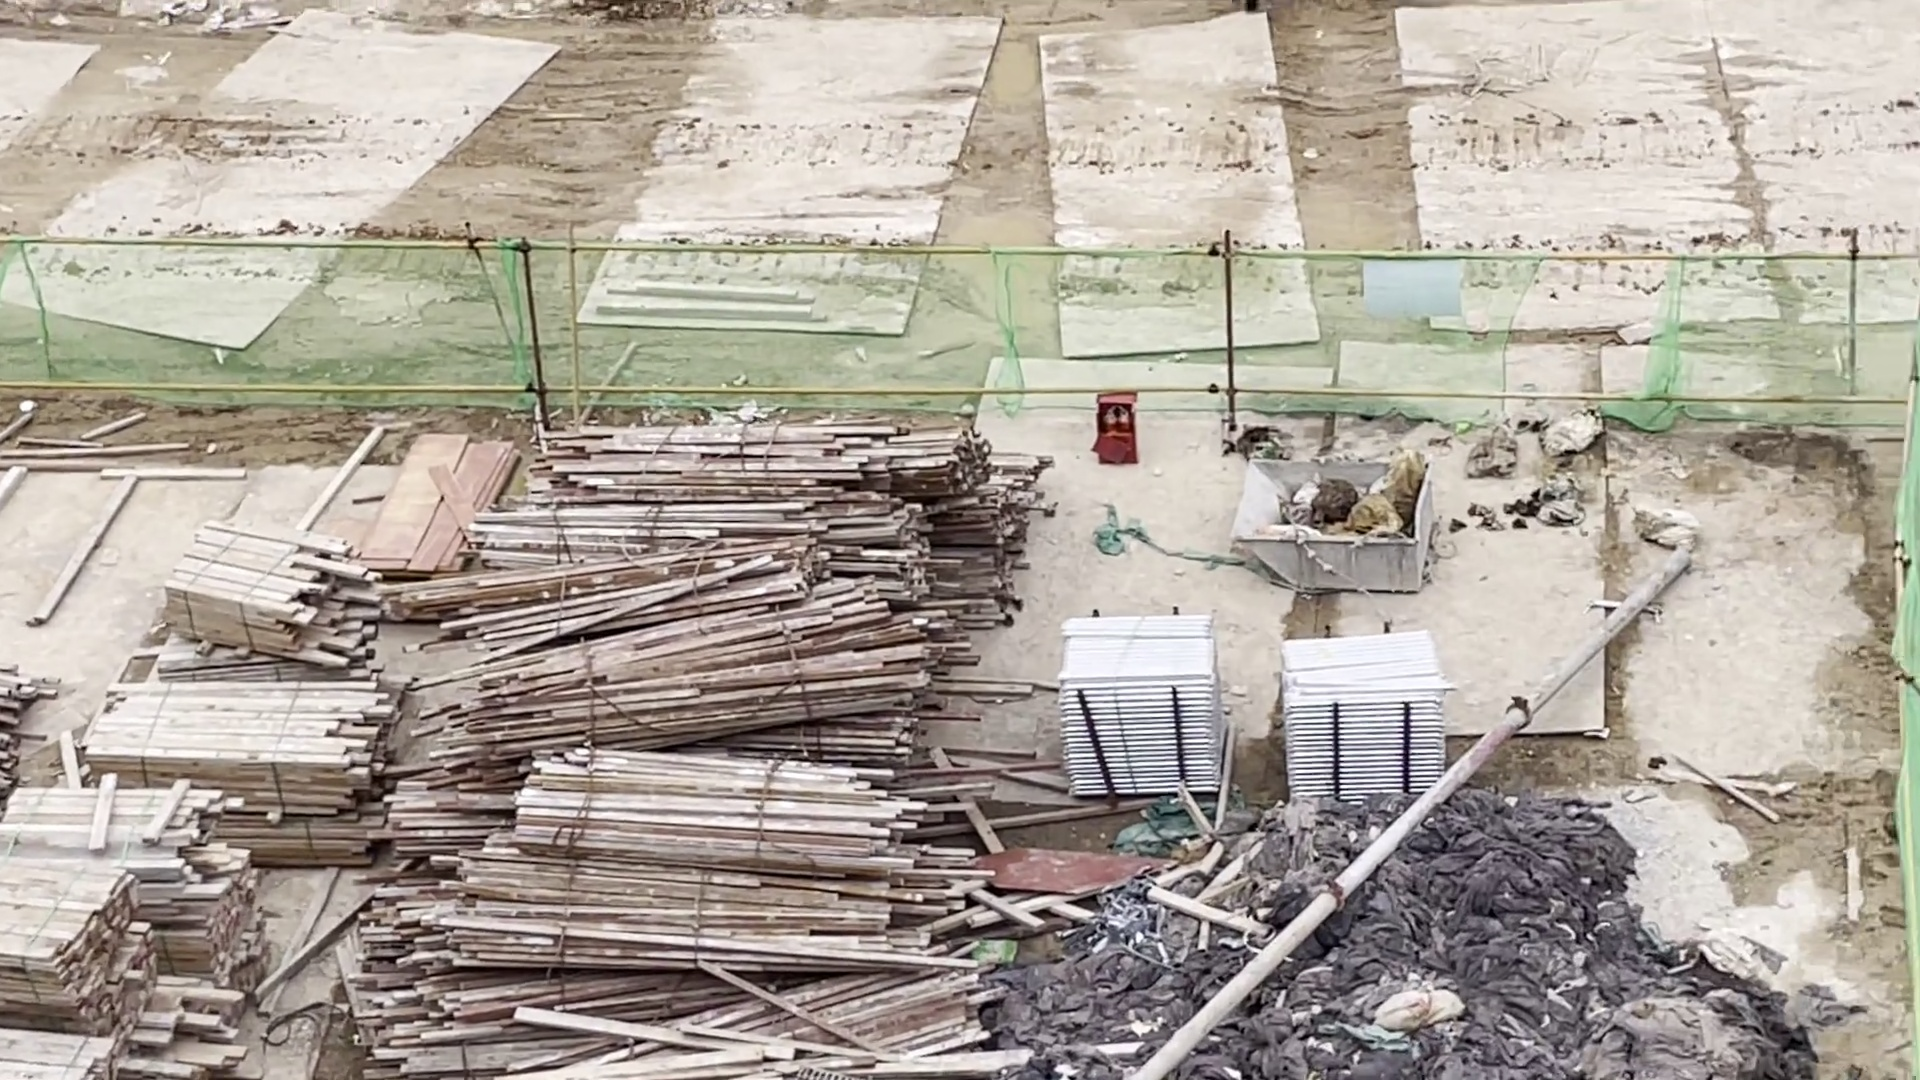board: (367, 431, 510, 575)
hopper: (1229, 448, 1433, 592)
scaffold: (1283, 629, 1451, 814), (1065, 616, 1226, 800)
wood: (506, 417, 1044, 1069), (1, 781, 258, 1079), (123, 661, 397, 873), (181, 517, 349, 683)
